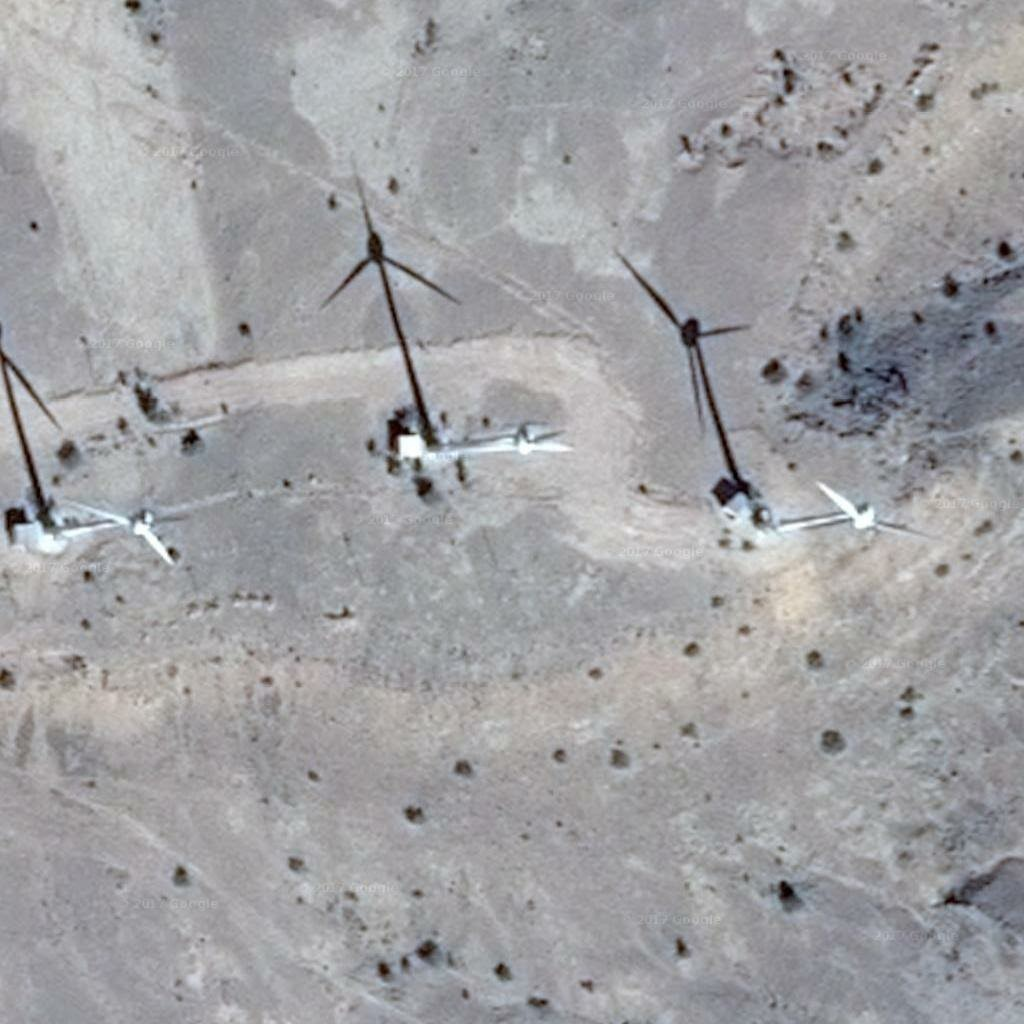Windmill: (303, 159, 455, 434)
